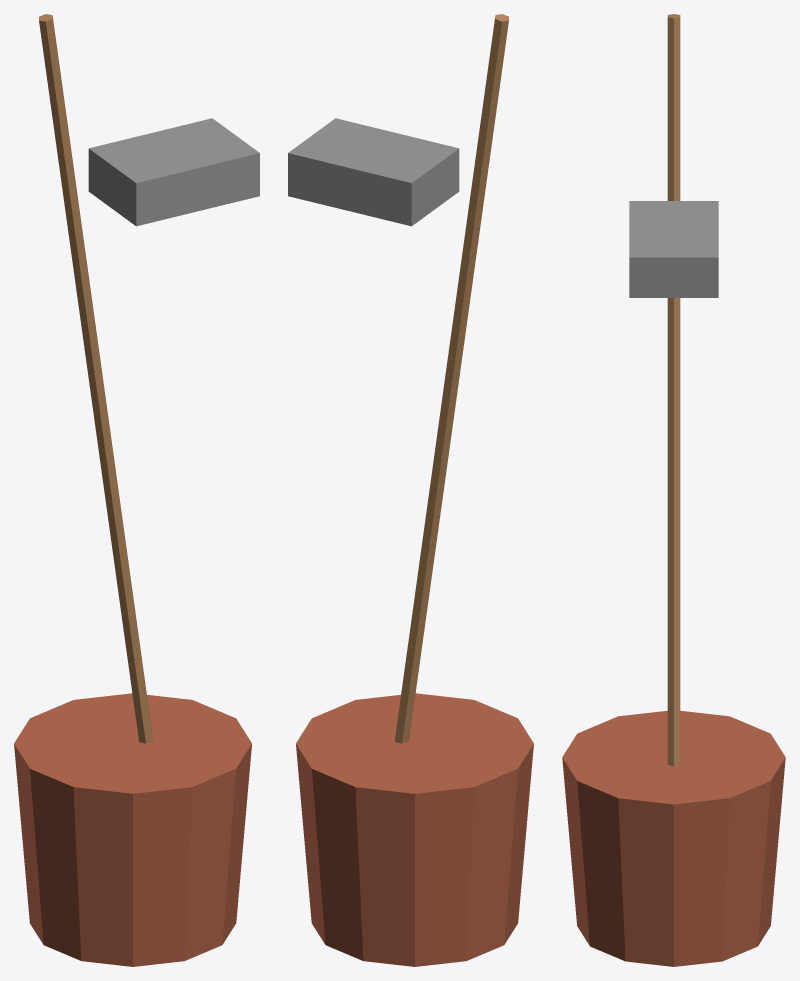
File: balde_e_rodo.obj
3 views of the same model, side by side, from view 1: azimuth 30°, elevation 25°; view 2: azimuth 150°, elevation 25°; view 3: azimuth 270°, elevation 25° (orthographic). The views are drawn at different scales.
Parts seen in each view (by area): view 1: balde_e_rodo; view 2: balde_e_rodo; view 3: balde_e_rodo.
Boxes of the visible parts, x1,y1,x2,y2 form: balde_e_rodo: (14,14,259,966); balde_e_rodo: (288,14,533,966); balde_e_rodo: (562,14,785,966).
Size of the model in its own units: 0.3 by 1.29 by 0.3.
